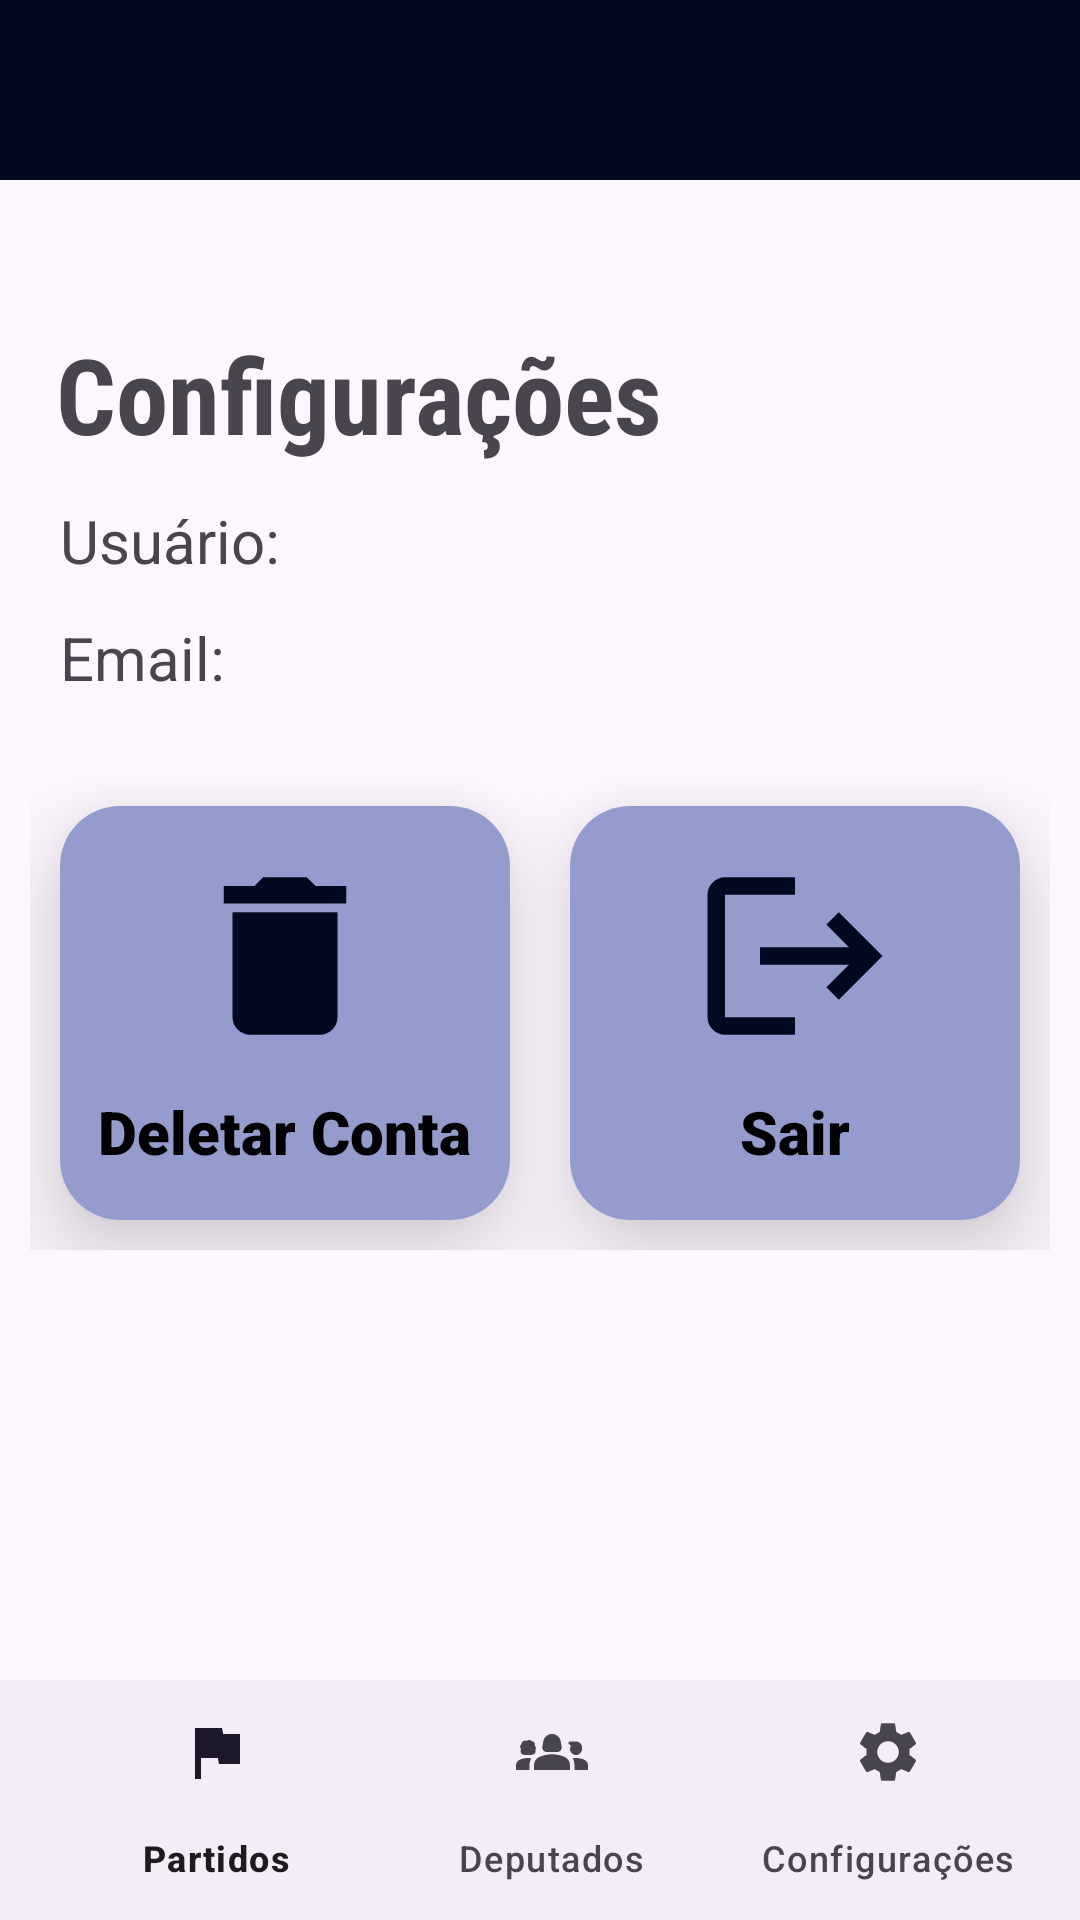

Named icons in this screenshot (1080px×1920px) and their bounding boxes, box=[x1, y1, x2, y2]:
delete: box=[223, 877, 347, 1035]
